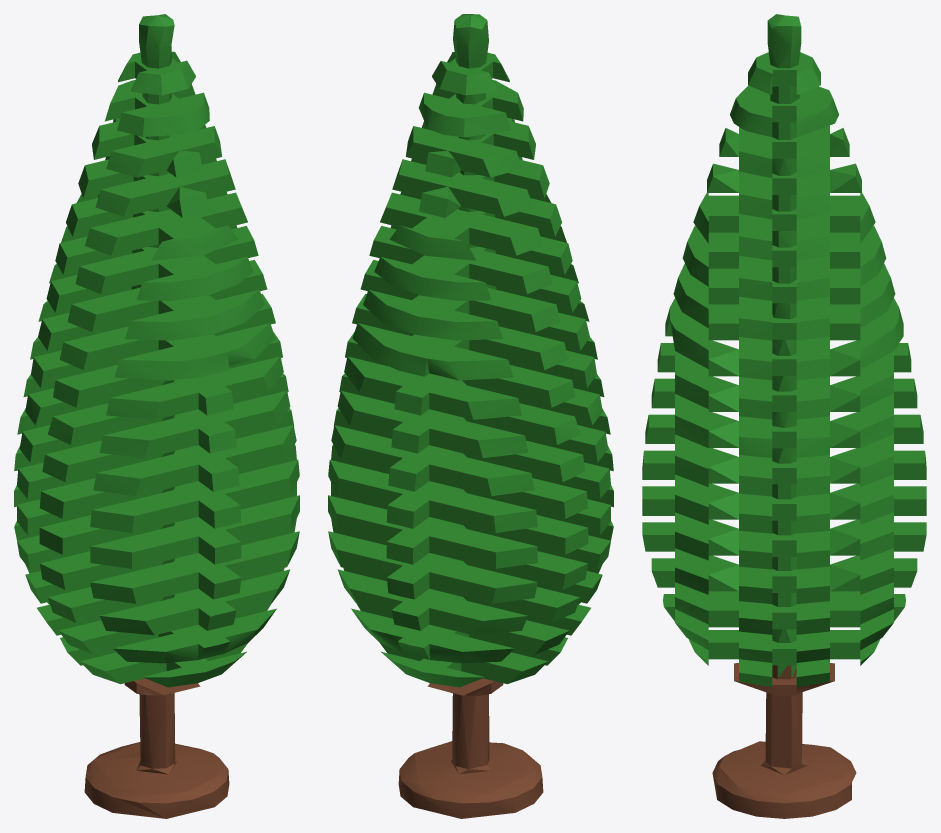
File: cypress.glb
3 views of the same model, side by side, from view 1: azimuth 30°, elevation 25°; view 2: azimuth 150°, elevation 25°; view 3: azimuth 270°, elevation 25° (orthographic).
Visible parts, largest first — view 1: cypress; view 2: cypress; view 3: cypress.
Boxes of the visible parts, <box> form: cypress: <box>14,14,299,818</box>; cypress: <box>328,14,613,818</box>; cypress: <box>642,14,926,818</box>.
Size of the model in its own units: 1.77 by 5.32 by 1.77.
